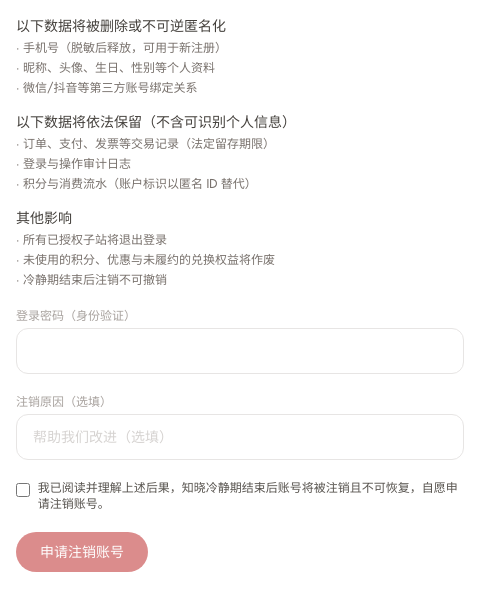
AccountDeletionPanel › 勾选确认并填写密码后提交：POST 成功进入冷静期视图并同步全局状态
Type "Pass1234" into the password field labelled "登录密码（身份验证）". click: x=240, y=351
box: [16,328,464,374]
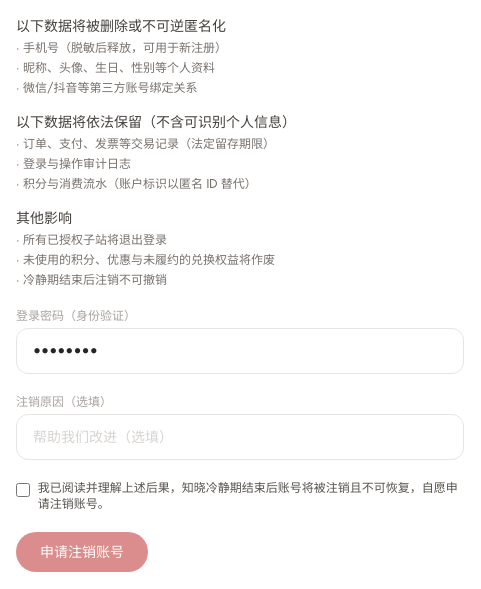
Click the checkbox. click: x=23, y=490
box: [16,482,30,498]
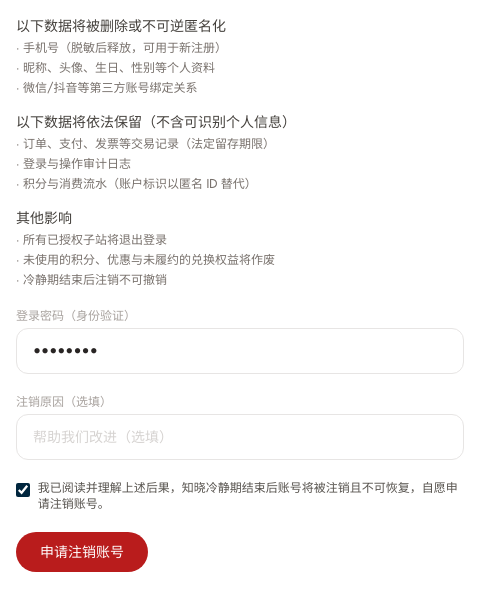
Click the button "申请注销账号". click: x=82, y=552
box: [16,532,148,572]
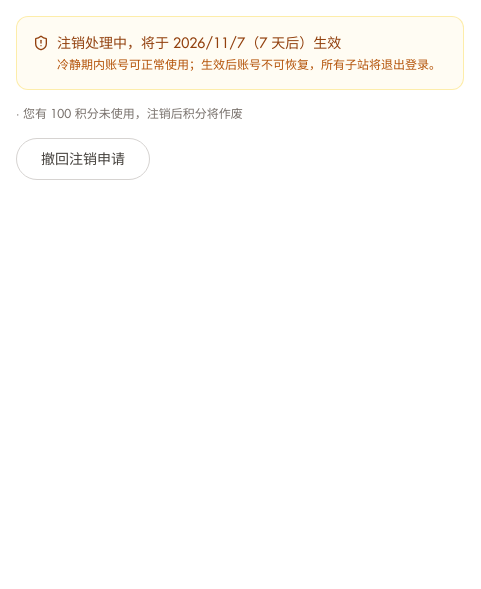
Expected: the text "注销处理中，将于 2026/11/7（7 天后）生效" is shown, [57,34,341,52]
Expected: the list item "· 您有 100 积分未使用，注销后积分将作废" is shown, [16,106,243,121]
